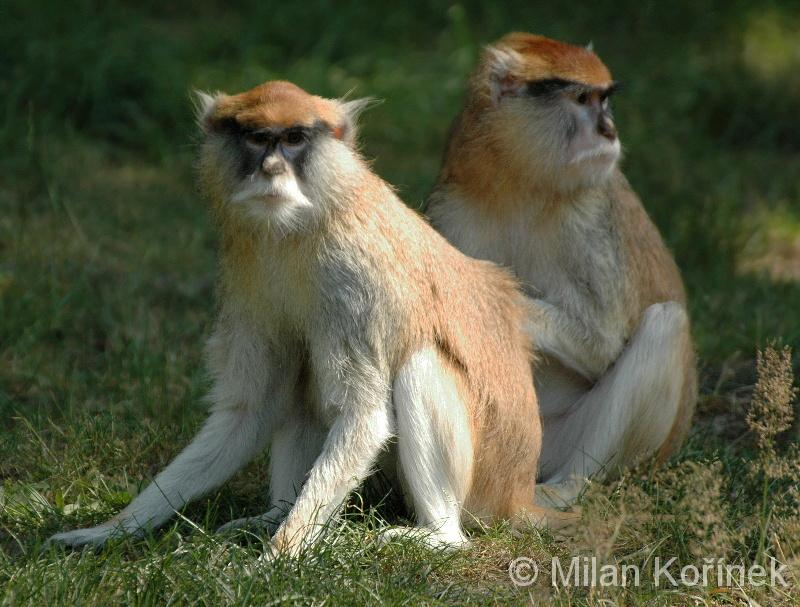monkey: (50, 46, 696, 564)
